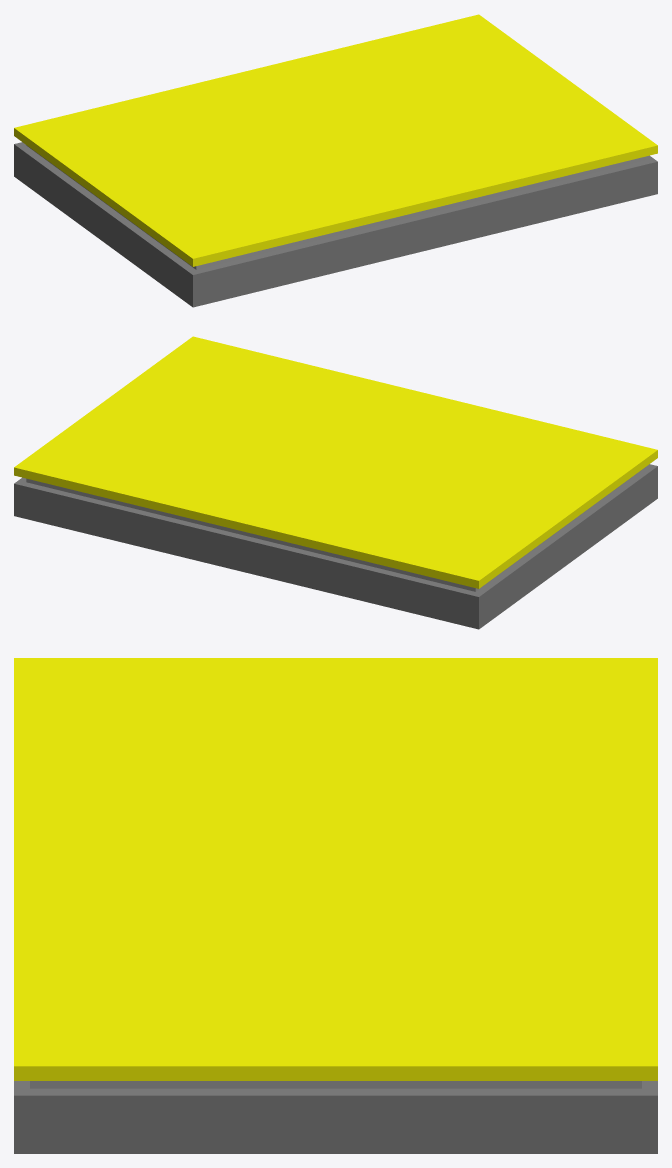
File: Biển số nhà inox số nổi nền vân gỗ 30 x 20.obj
3 renders of one model, top to bottom at view 1: azimuth 30°, elevation 25°; view 2: azimuth 150°, elevation 25°; view 3: azimuth 270°, elevation 25°, orthographic. The views are drawn at different scales.
Visible parts, largest first — view 1: bien_so_nha_inox_so_noi_nen_van_go_30_x_20; view 2: bien_so_nha_inox_so_noi_nen_van_go_30_x_20; view 3: bien_so_nha_inox_so_noi_nen_van_go_30_x_20.
Boxes of the visible parts, left/top/right/bottom form: bien_so_nha_inox_so_noi_nen_van_go_30_x_20: left=14, top=14, right=657, bottom=307; bien_so_nha_inox_so_noi_nen_van_go_30_x_20: left=14, top=336, right=657, bottom=629; bien_so_nha_inox_so_noi_nen_van_go_30_x_20: left=14, top=658, right=657, bottom=1153.
Size of the model in its own units: 0.3 by 0.03 by 0.2.
